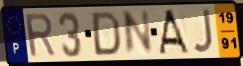3: (57, 10, 82, 59)
A: (158, 8, 191, 55)
D: (91, 10, 122, 57)
J: (191, 8, 215, 55)
N: (121, 8, 154, 58)
R: (23, 11, 58, 59)
